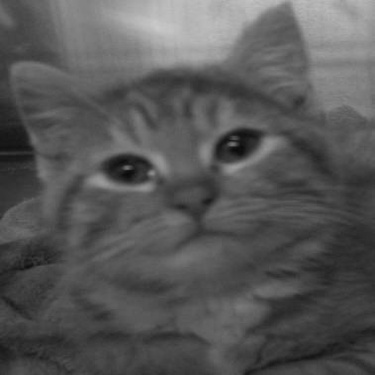cat: (4, 1, 369, 371)
